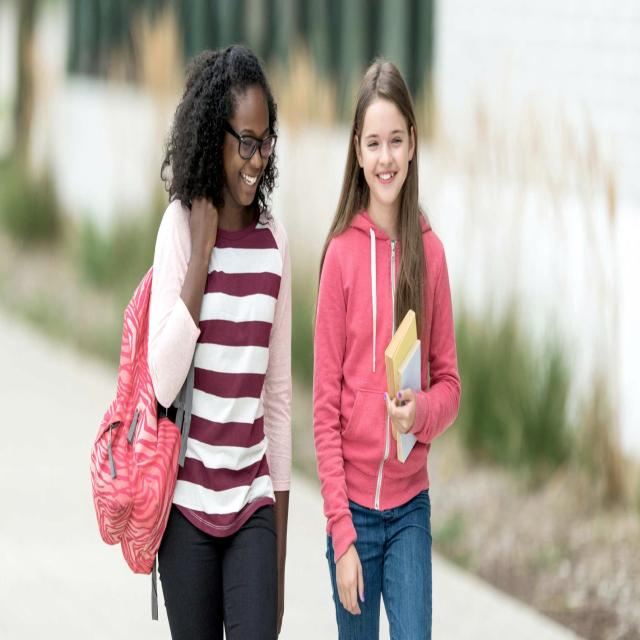child: (312, 56, 462, 640), (152, 36, 292, 640)
